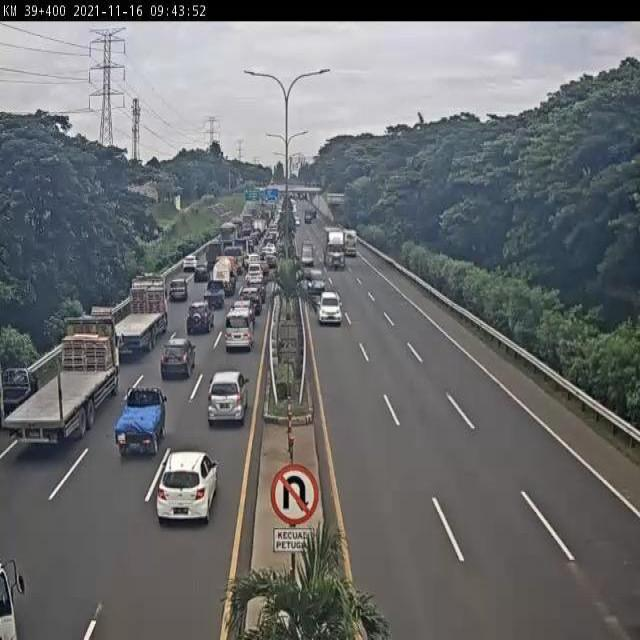car: (148, 442, 222, 526), (114, 381, 167, 460), (207, 371, 250, 429), (158, 341, 196, 383), (223, 314, 253, 354), (183, 306, 213, 342), (318, 290, 343, 326), (202, 280, 226, 313), (230, 300, 254, 333), (240, 287, 262, 313), (308, 267, 326, 296), (167, 282, 187, 306), (248, 277, 268, 299), (190, 265, 207, 287), (246, 265, 264, 284), (177, 260, 193, 277), (248, 254, 264, 266), (301, 242, 310, 258)
small truck: (224, 242, 243, 270)
truck-l-: (322, 227, 346, 268), (217, 223, 237, 253)
truck-m-: (4, 316, 118, 447), (105, 276, 168, 359), (212, 258, 235, 298), (203, 242, 224, 270)
